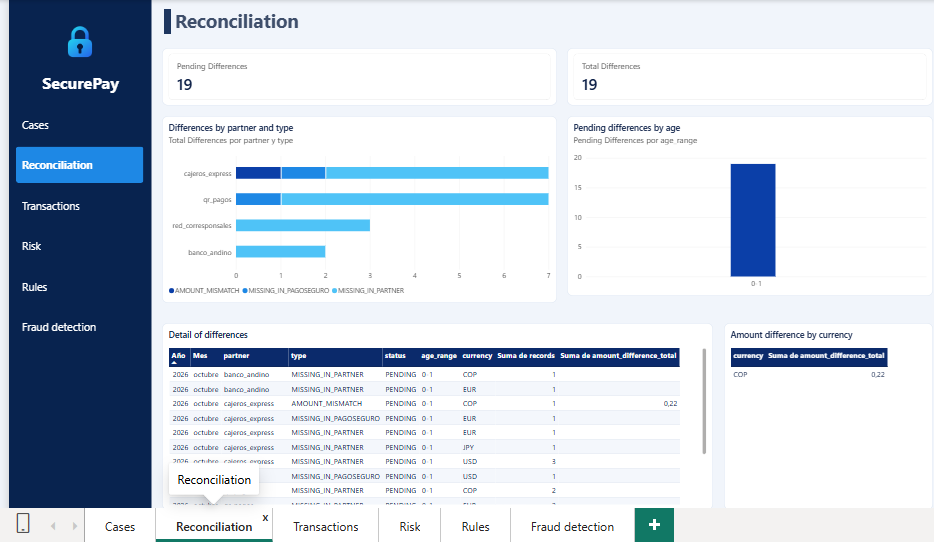

Layout of this report page (visuals, bound fields, positions):
{"tool":"powerbi","page":{"name":"Reconciliation","canvas":[1920,1080],"ordinal":1},"visuals":[{"type":"cardVisual","fields":{"Data":["q5_reconciliation.Total Differences"]},"box":[1188,103.7,702,110.2],"z":0},{"type":"cardVisual","fields":{"Data":["q5_reconciliation.Pending Differences"]},"box":[382.3,103.7,721.4,110.2],"z":1000},{"type":"barChart","fields":{"Category":["q5_reconciliation.partner"],"Series":["q5_reconciliation.type"],"Y":["q5_reconciliation.Total Differences"]},"box":[322,282,630,345],"z":2000},{"type":"clusteredColumnChart","fields":{"Category":["q5_reconciliation.age_range"],"Y":["q5_reconciliation.Pending Differences"]},"box":[997,282,420,345],"z":3000},{"type":"tableEx","fields":{"Values":["q5_reconciliation.run_day.Variation.Jerarquía de fechas.Año","q5_reconciliation.run_day.Variation.Jerarquía de fechas.Mes","q5_reconciliation.partner","q5_reconciliation.type","q5_reconciliation.status","q5_reconciliation.age_range","q5_reconciliation.currency","Sum(q5_reconciliation.differences)","Sum(q5_reconciliation.amount_difference_total)"]},"box":[531.4,702,1144.8,324],"z":4000},{"type":"tableEx","fields":{"Values":["q5_reconciliation.currency","q5_reconciliation.amount_difference_total"]},"box":[1462,282,428,345],"z":5000},{"type":"pageNavigator","box":[15,190,255,480],"z":5001}]}

Visuals, with their boxes on the page's 1920x1080 design canvas (x1, y1, x2, y2). These are canvas units, not pixel positions in the 934x542 screenshot, which may show the page scaled, cropped or inside an application window:
cardVisual - q5_reconciliation.Total Differences: (x1=1188, y1=104, x2=1890, y2=214)
cardVisual - q5_reconciliation.Pending Differences: (x1=382, y1=104, x2=1104, y2=214)
barChart - q5_reconciliation.partner x q5_reconciliation.type: (x1=322, y1=282, x2=952, y2=627)
clusteredColumnChart - q5_reconciliation.age_range x q5_reconciliation.Pending Differences: (x1=997, y1=282, x2=1417, y2=627)
tableEx - q5_reconciliation.run_day.Variation.Jerarquía de fechas.Año x q5_reconciliation.run_day.Variation.Jerarquía de fechas.Mes: (x1=531, y1=702, x2=1676, y2=1026)
tableEx - q5_reconciliation.currency x q5_reconciliation.amount_difference_total: (x1=1462, y1=282, x2=1890, y2=627)
pageNavigator: (x1=15, y1=190, x2=270, y2=670)
